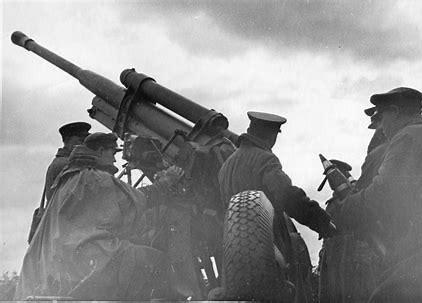MIL_SPG: (12, 32, 238, 285)
